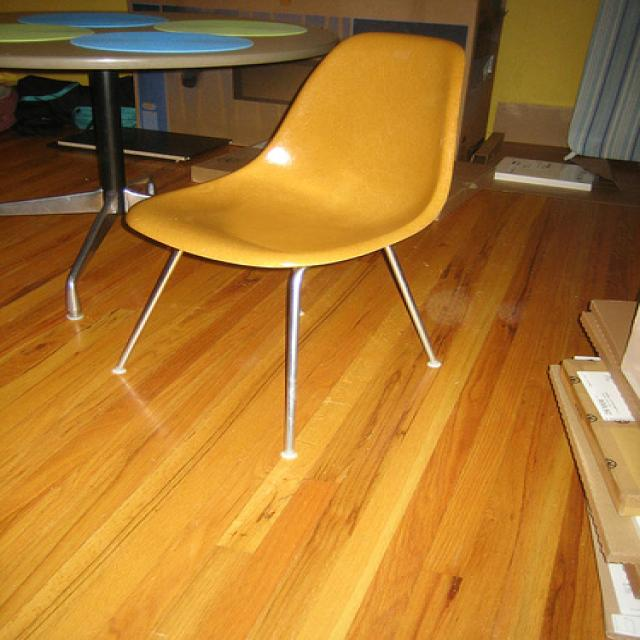chair: (114, 30, 472, 463)
